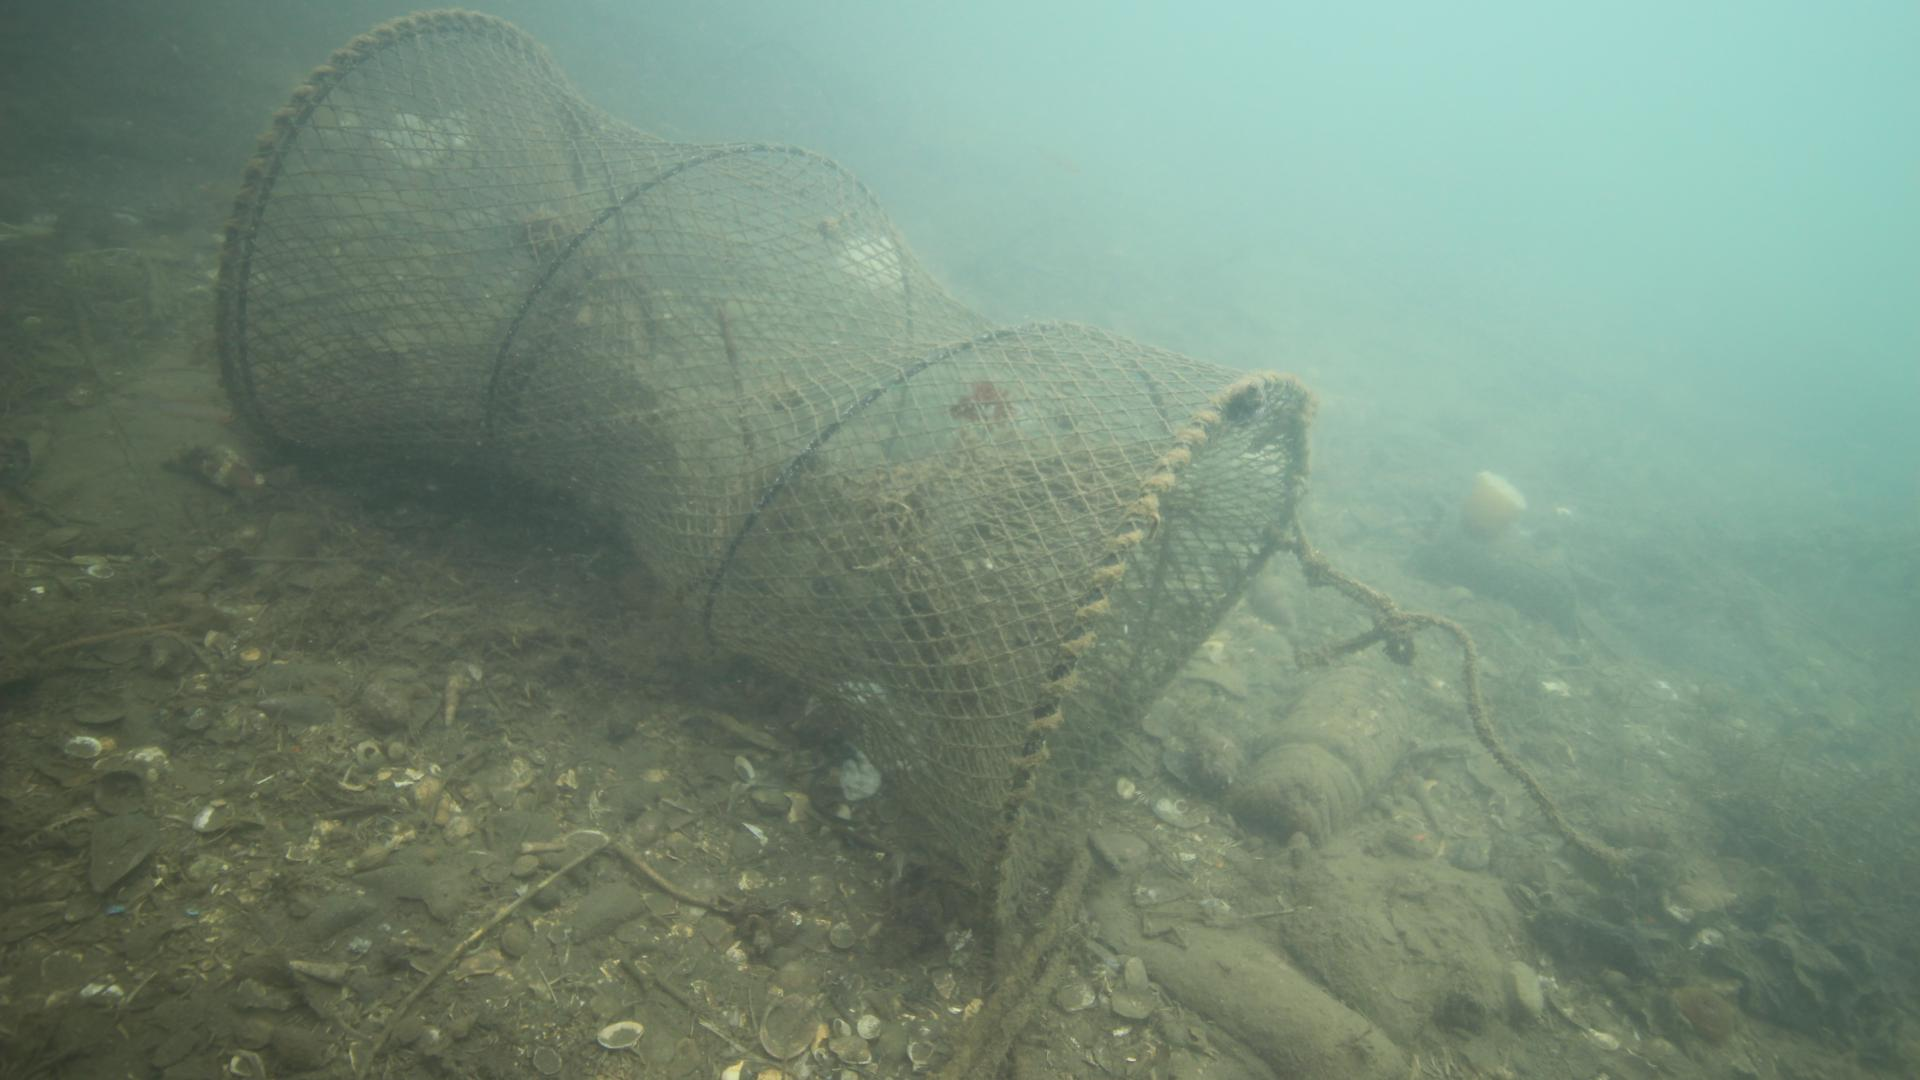rope: (1294, 527, 1636, 872)
spring fish trap: (214, 7, 1309, 924)
